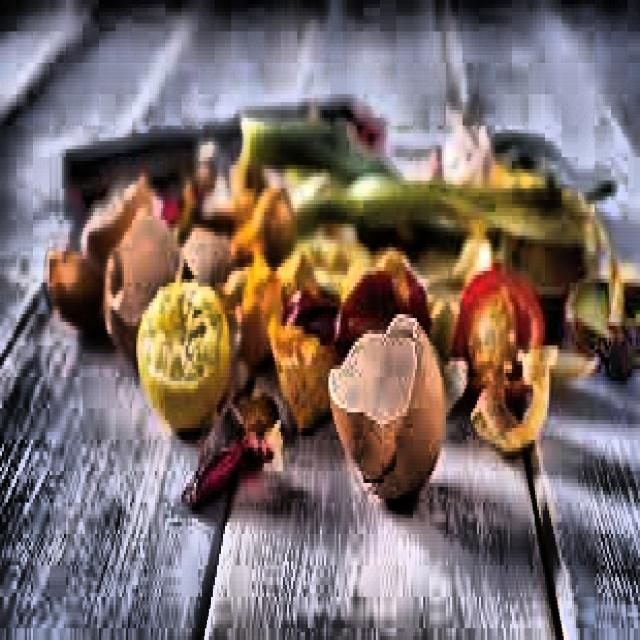garbage: (62, 130, 619, 463)
